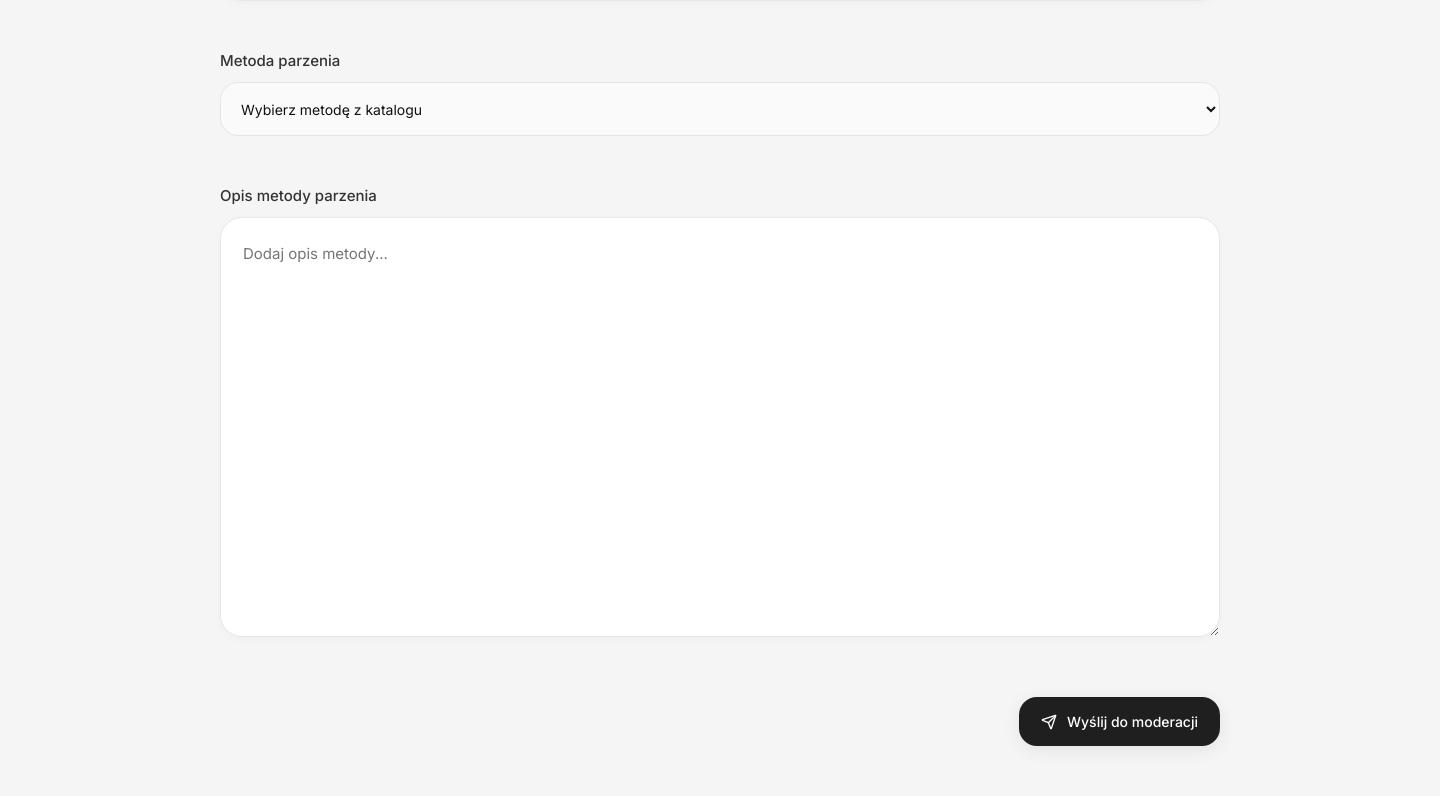
AddWikiArticle › shows validation error when required fields are missing
This screenshot has width=1440, height=796.
(page scrolled)
Step 1. Click the button "Wyślij do moderacji" → click(1120, 722), box [1019,697,1220,746]
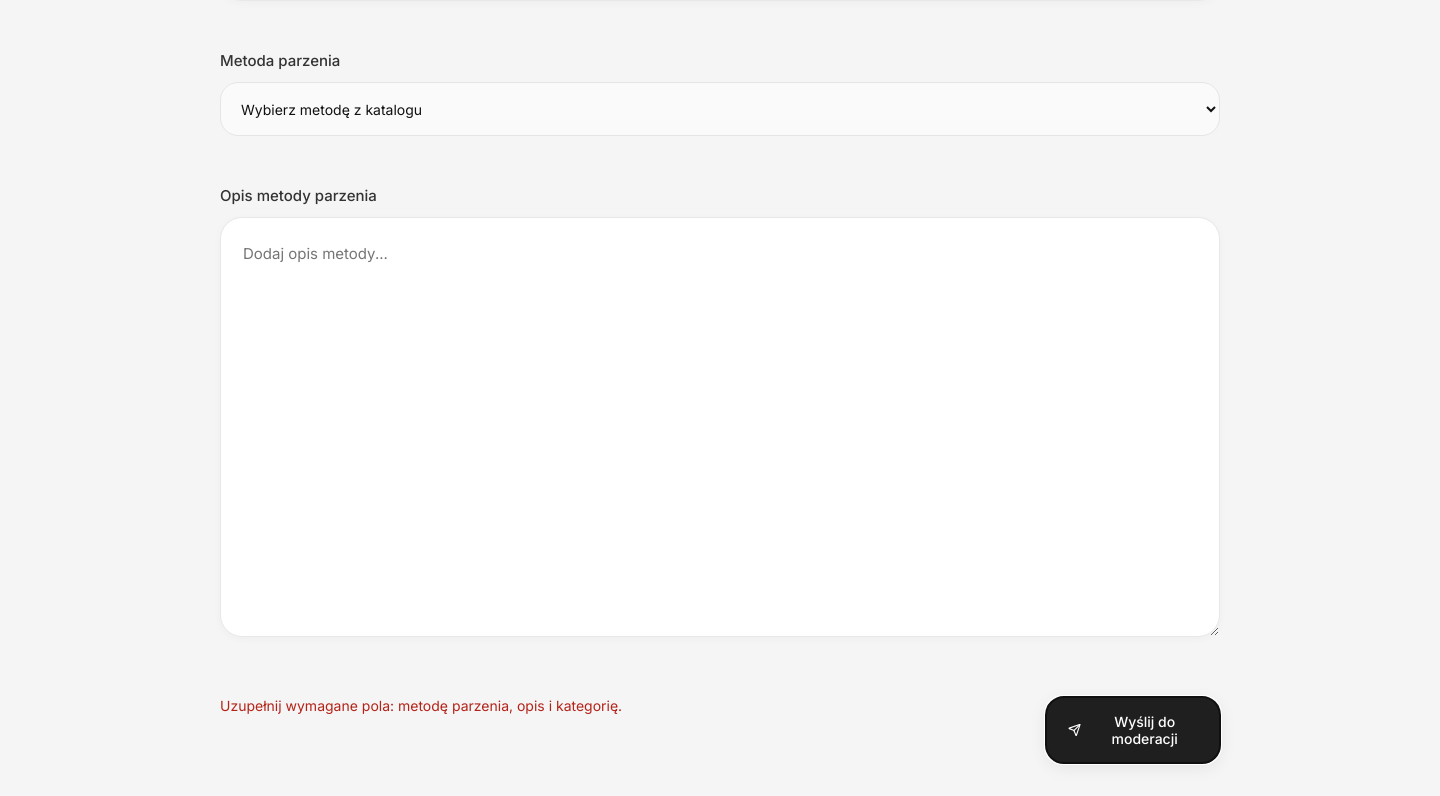
Expected: the text "Uzupełnij wymagane pola: metodę parzenia, opis i kategorię." is shown, [220,697,622,714]
